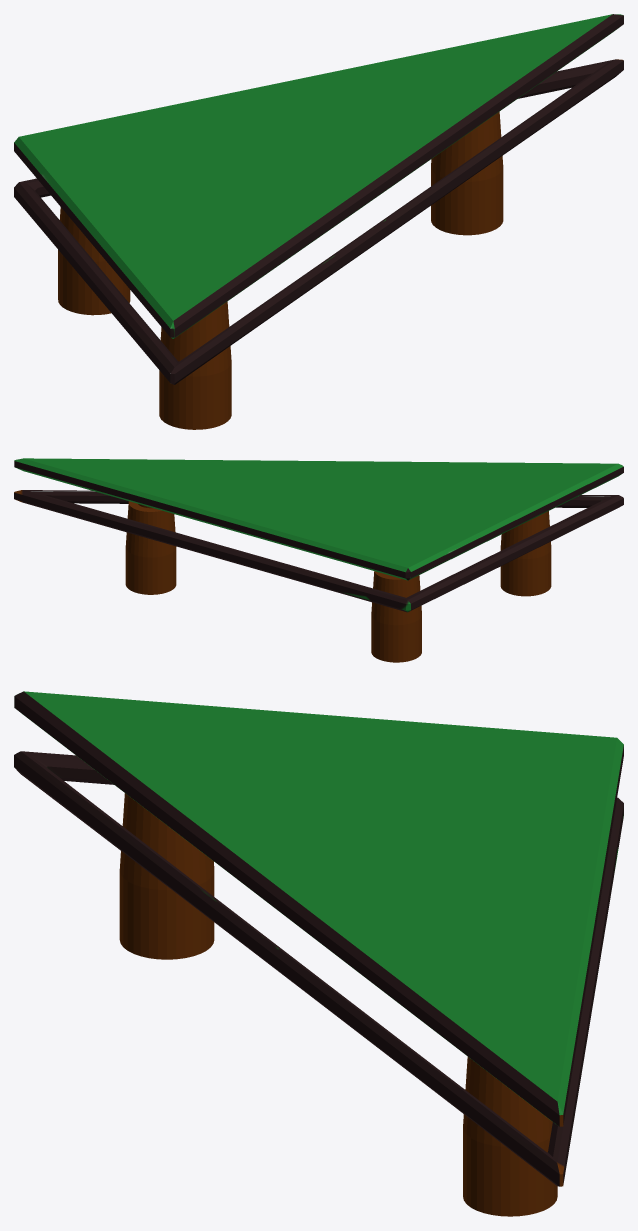
File: Triangle.obj
3 renders of one model, top to bottom at view 1: azimuth 30°, elevation 25°; view 2: azimuth 150°, elevation 25°; view 3: azimuth 270°, elevation 25°, orthographic. The views are drawn at different scales.
Parts seen in each view (by area): view 1: ReboteIzquierdo.002; view 2: ReboteIzquierdo.002; view 3: ReboteIzquierdo.002.
Part boxes in pixels (x1,y1,x2,y2): ReboteIzquierdo.002: [14, 14, 623, 429]; ReboteIzquierdo.002: [14, 458, 623, 662]; ReboteIzquierdo.002: [14, 691, 623, 1216].
Size of the model in its own units: 21.05 by 4.64 by 12.88.
